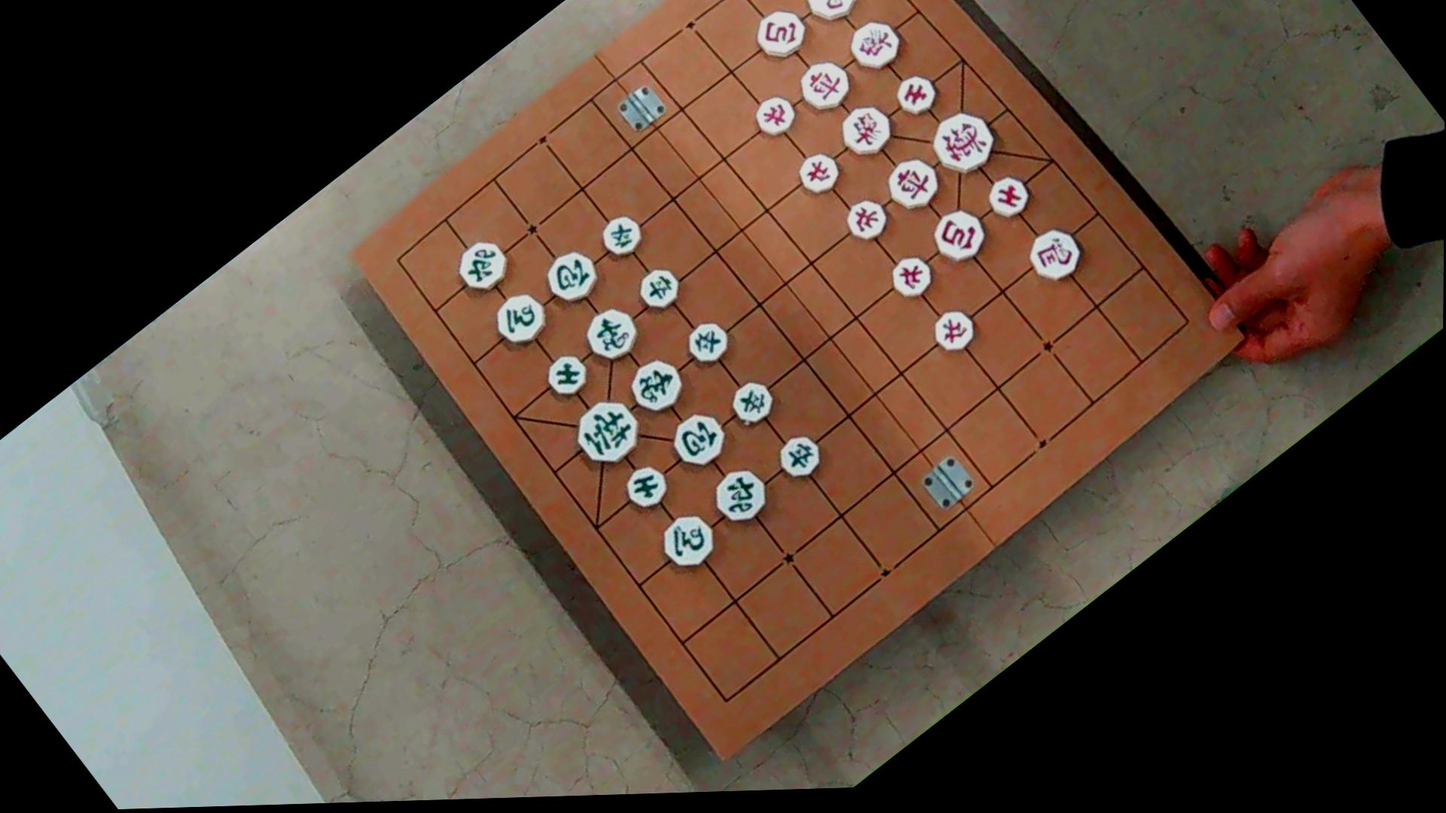cha_green: (706, 459, 776, 531), (450, 233, 516, 300)
cha_red: (880, 148, 948, 218), (792, 52, 859, 119)
jol_green: (725, 374, 781, 431), (773, 427, 828, 484), (594, 208, 648, 263), (682, 315, 735, 370), (633, 261, 686, 315)
jol_red: (927, 302, 981, 358), (840, 191, 894, 247), (885, 248, 939, 304), (792, 146, 845, 200), (749, 89, 801, 142)
ma_green: (654, 506, 722, 577), (487, 285, 554, 353)
ma_red: (1021, 220, 1090, 290), (798, 0, 864, 30)
po_green: (666, 404, 733, 474), (538, 242, 605, 312)
po_red: (926, 200, 993, 269), (749, 1, 813, 65)
sa_green: (619, 458, 673, 514), (541, 348, 594, 403)
sa_red: (889, 66, 944, 121), (982, 169, 1036, 225)
sang_green: (621, 352, 691, 422), (578, 300, 645, 369)
sang_red: (834, 96, 900, 164), (844, 11, 908, 77)
wang_green: (566, 388, 649, 475)
wang_red: (923, 100, 1004, 184)
